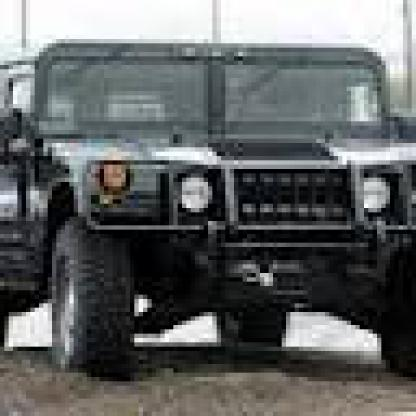Vehicle: (17, 39, 412, 386)
